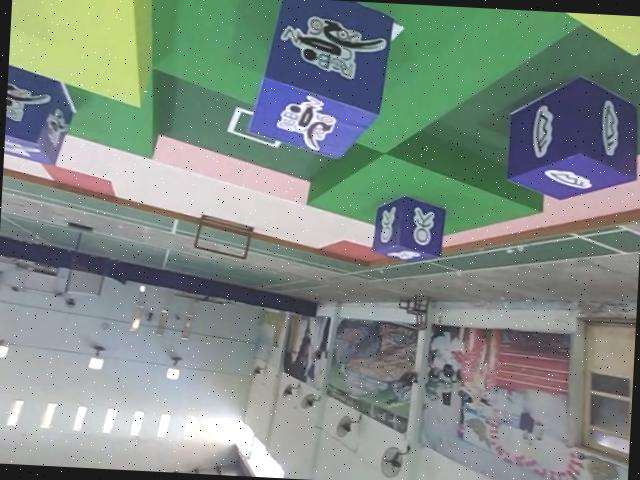R1 Blue: (251, 0, 391, 166), (4, 52, 79, 165)
R2 Real Blue: (505, 70, 640, 204), (372, 192, 449, 263)
